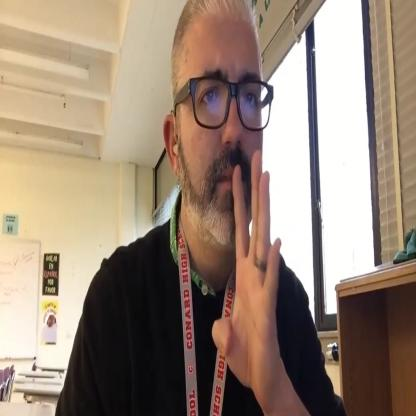Talk: (155, 0, 296, 416)
